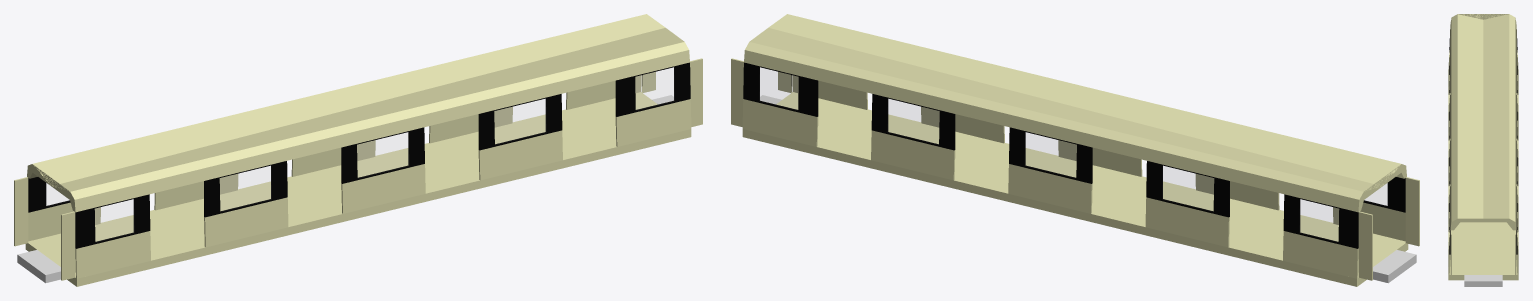
Rendered from Car Body Middle.fbx.
3 renders of one model, left to right at view 1: azimuth 30°, elevation 25°; view 2: azimuth 150°, elevation 25°; view 3: azimuth 270°, elevation 25°, orthographic. The views are drawn at different scales.
Visible parts, largest first — view 1: Cube, Accordion Floor; view 2: Cube, Accordion Floor; view 3: Cube, Accordion Floor.001.
Boxes of the visible parts, x1,y1,x2,y2 form: Cube: [14, 14, 702, 286]; Accordion Floor: [17, 250, 60, 283]; Cube: [731, 14, 1419, 286]; Accordion Floor: [1373, 250, 1416, 283]; Cube: [1448, 14, 1518, 280]; Accordion Floor.001: [1464, 275, 1502, 286].
Size of the model in its own units: 2015 by 267 by 274.
